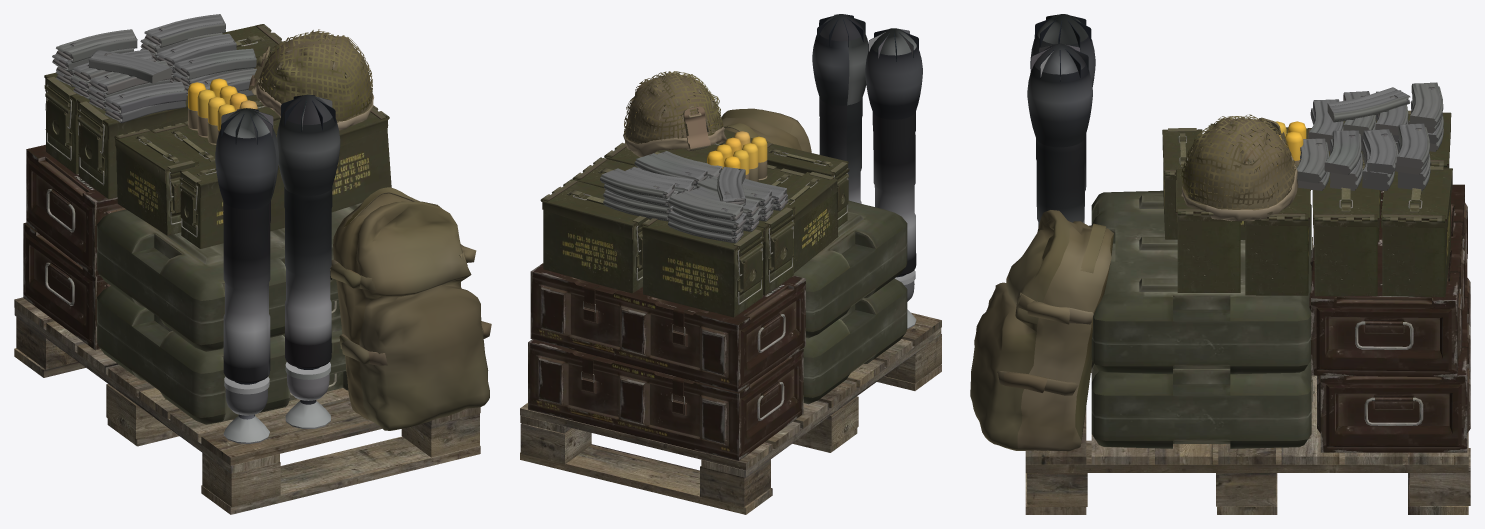
Rendered from ammocrate.glb.
The picture shows the model from 3 angles, left to right: view 1: azimuth 30°, elevation 25°; view 2: azimuth 150°, elevation 25°; view 3: azimuth 270°, elevation 25°; orthographic projection. The views are drawn at different scales.
Visible parts, largest first — view 1: BAF_Ammocrate_v3; view 2: BAF_Ammocrate_v3; view 3: BAF_Ammocrate_v3.
Boxes of the visible parts, x1,y1,x2,y2 form: BAF_Ammocrate_v3: (14,14,491,514); BAF_Ammocrate_v3: (520,14,941,514); BAF_Ammocrate_v3: (970,14,1470,514).
Size of the model in its own units: 0.6711 by 0.98 by 1.13.
Materials: 6 (6 with a texture image).
